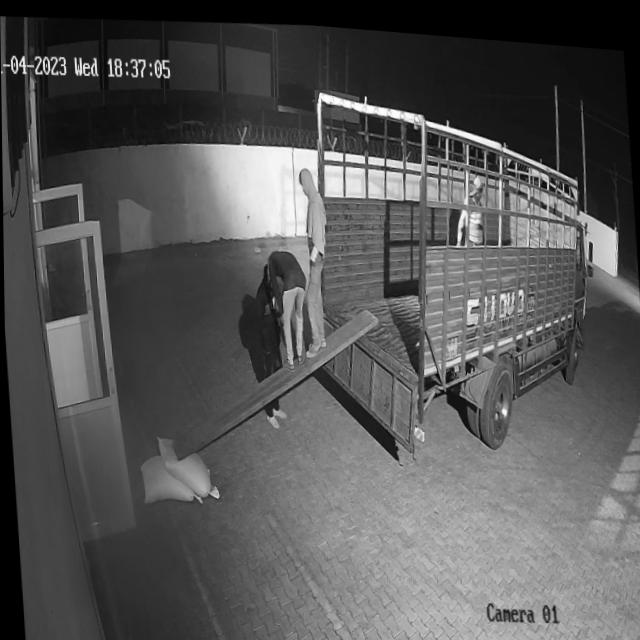sack: (155, 429, 218, 499), (139, 448, 201, 504)
